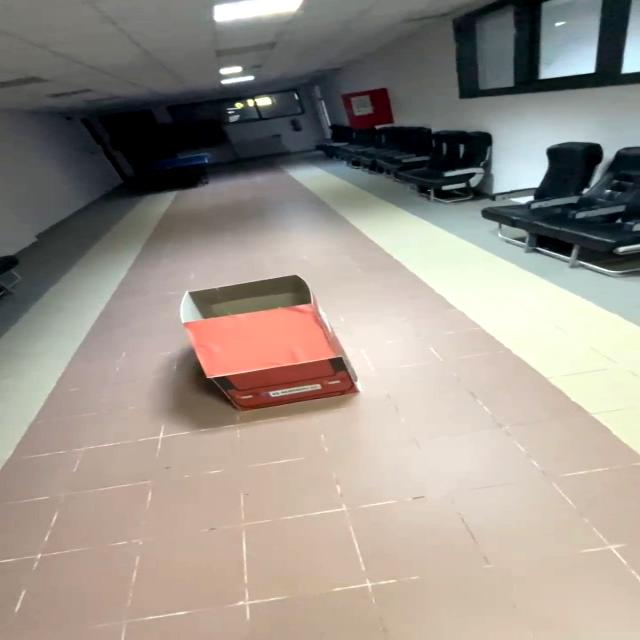red_car: (141, 242, 384, 434)
